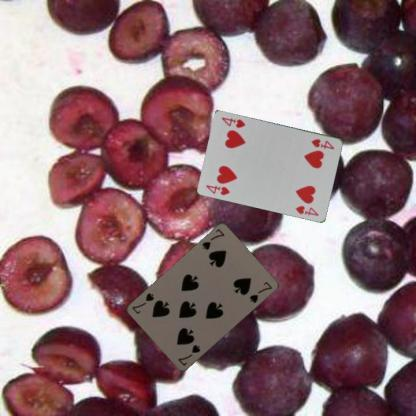4h: (308, 136, 336, 150), (203, 182, 231, 196)
7s: (176, 342, 202, 368), (199, 226, 226, 251)
